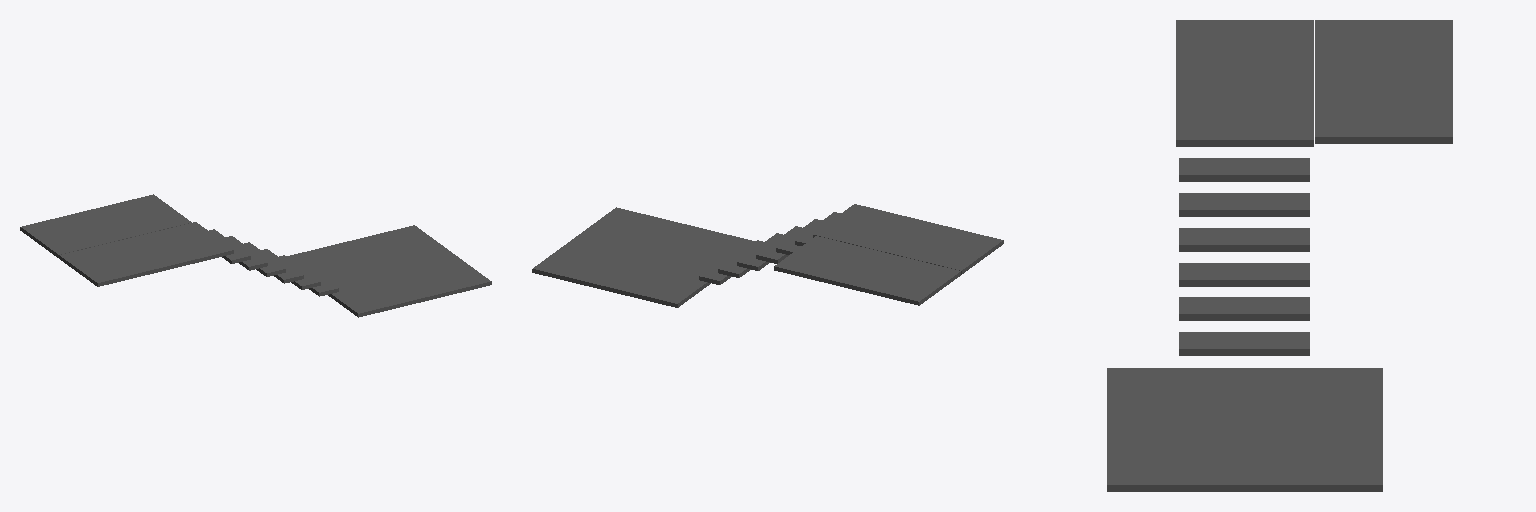
The robot description file, URDF, robot "lab_scene":
<?xml version="1.0" ?>
<robot name="lab_scene" xmlns:xacro="http://ros.org/wiki/xacro">
  <link name="base_link">
    <inertial>
      <mass value="200" />
      <inertia ixx="1.0" ixy="0.0" ixz="0.0" iyy="1.0" iyz="0.0" izz="1.0" />
    </inertial>
    <visual>
      <origin rpy="0 0 0" xyz="0 0 0"/>
      <geometry>
        <mesh filename="package://meshes/lab_scene_2.stl"/>
      </geometry>
      <material name="">
        <color rgba="0.4 0.4 0.4 1.0"/>
      </material>
    </visual>
    <collision concave="yes">
      <origin rpy="0 0 0" xyz="0 0 0"/>
      <geometry>
        <mesh filename="package://meshes/lab_scene_2.stl"/>
      </geometry>
    </collision>
  </link>
  <gazebo>
    <static>1</static>
  </gazebo>
</robot>

--- Facts derived from the render (not from the file) ---
Views: 3 orthographic renders of the robot side by side, from view 1: azimuth 30°, elevation 25°; view 2: azimuth 150°, elevation 25°; view 3: azimuth 270°, elevation 25°.
Robot: lab_scene — 1 links, 0 joints (none); root link base_link; default pose: every joint at zero.
Visible links, largest first — view 1: base_link; view 2: base_link; view 3: base_link.
Boxes of the visible links, x1,y1,x2,y2 form: base_link: (20, 194, 491, 317); base_link: (532, 204, 1003, 307); base_link: (1107, 20, 1452, 491).
Size in the robot's own frame: 6.19 by 2.76 by 1.25 metres.
1 mesh visuals loaded from 1 distinct referenced files (1 binary STL).